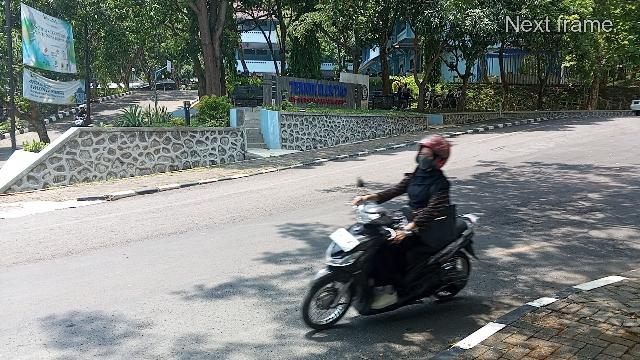helm: (417, 134, 452, 175)
motor: (302, 176, 485, 333)
